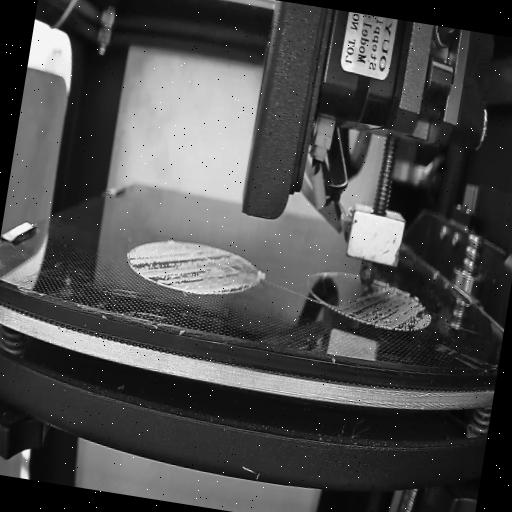under_extrusion: (124, 234, 256, 296), (335, 276, 431, 332)
